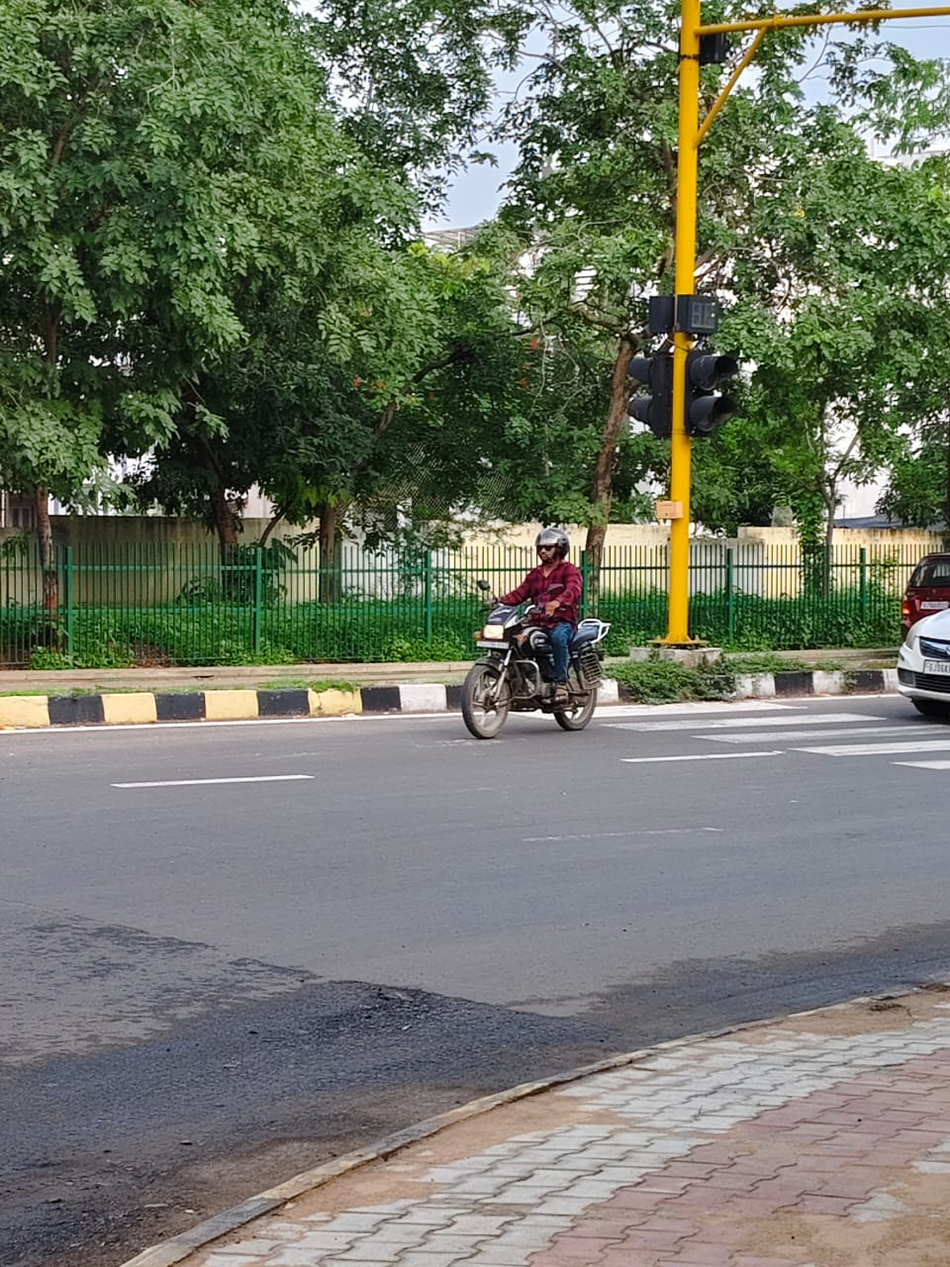BikeWithRider: (450, 524, 617, 747)
Helmet: (531, 525, 571, 566)
